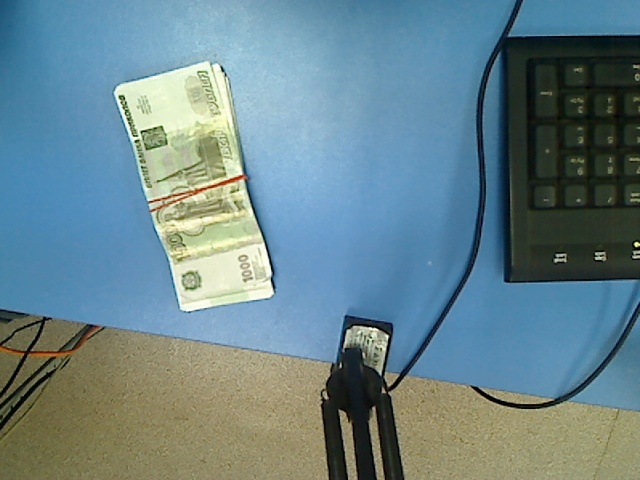banknotes: (112, 59, 278, 313)
